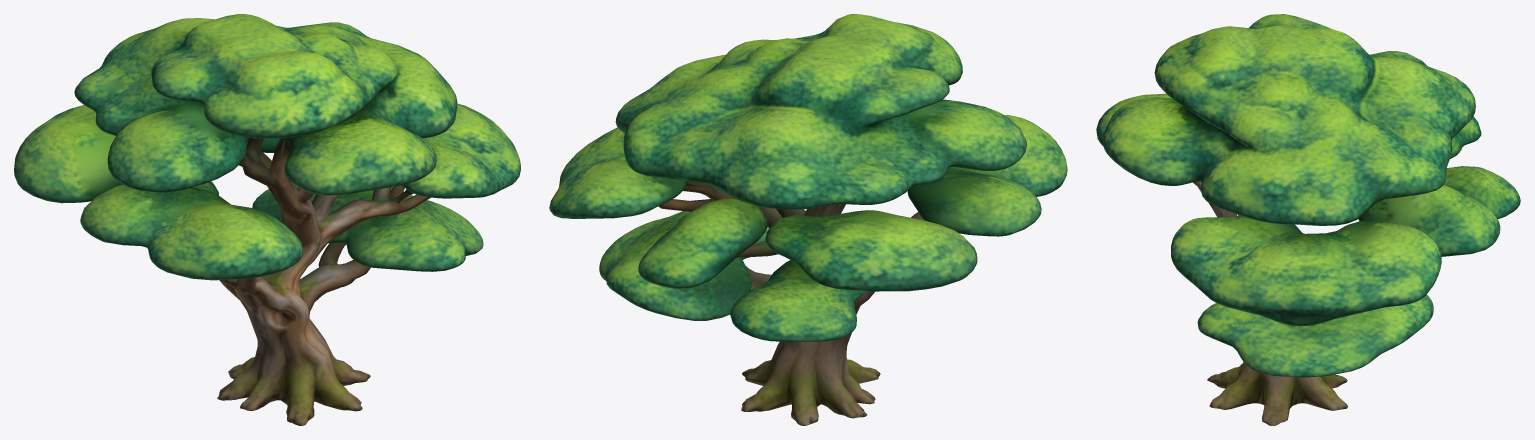
File: passiona-emerald-rain-tree.glb
3 views of the same model, side by side, from view 1: azimuth 30°, elevation 25°; view 2: azimuth 150°, elevation 25°; view 3: azimuth 270°, elevation 25° (orthographic). The views are drawn at different scales.
Visible parts, largest first — view 1: node_0; view 2: node_0; view 3: node_0.
Part boxes in pixels (x1,y1,x2,y2): node_0: (14, 14, 520, 425); node_0: (549, 14, 1067, 425); node_0: (1096, 14, 1520, 425).
Bounding box in the file's own units: 1.05 × 0.8418 × 0.953.
1 material, 1 textured.
